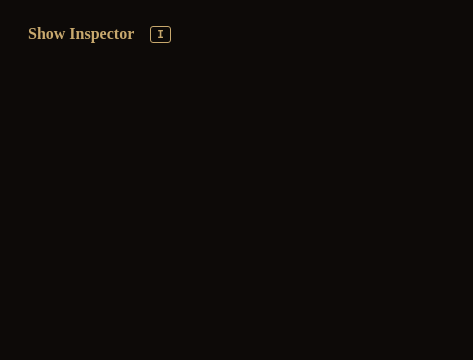
Test: InspectorDock and the I key › opens and closes with the button, keeping aria-expanded in sync
Step 1. Click the button "Show Inspector I" → (99, 34), box [16,16,183,52]
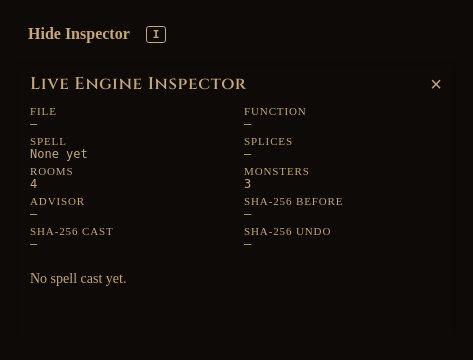
Result: the element "Live Engine Inspector" is shown
Result: the button "Hide Inspector I" is expanded
Step 2. Click the button "Hide Inspector I" → (97, 34), box [16,16,178,52]
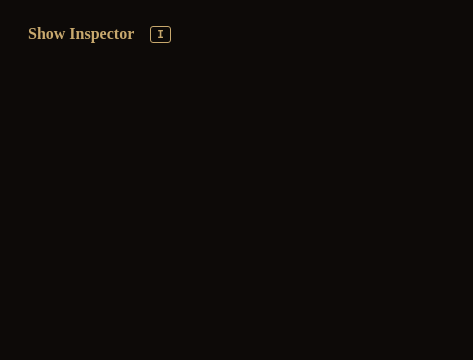
Result: the heading "Live Engine Inspector" is gone
